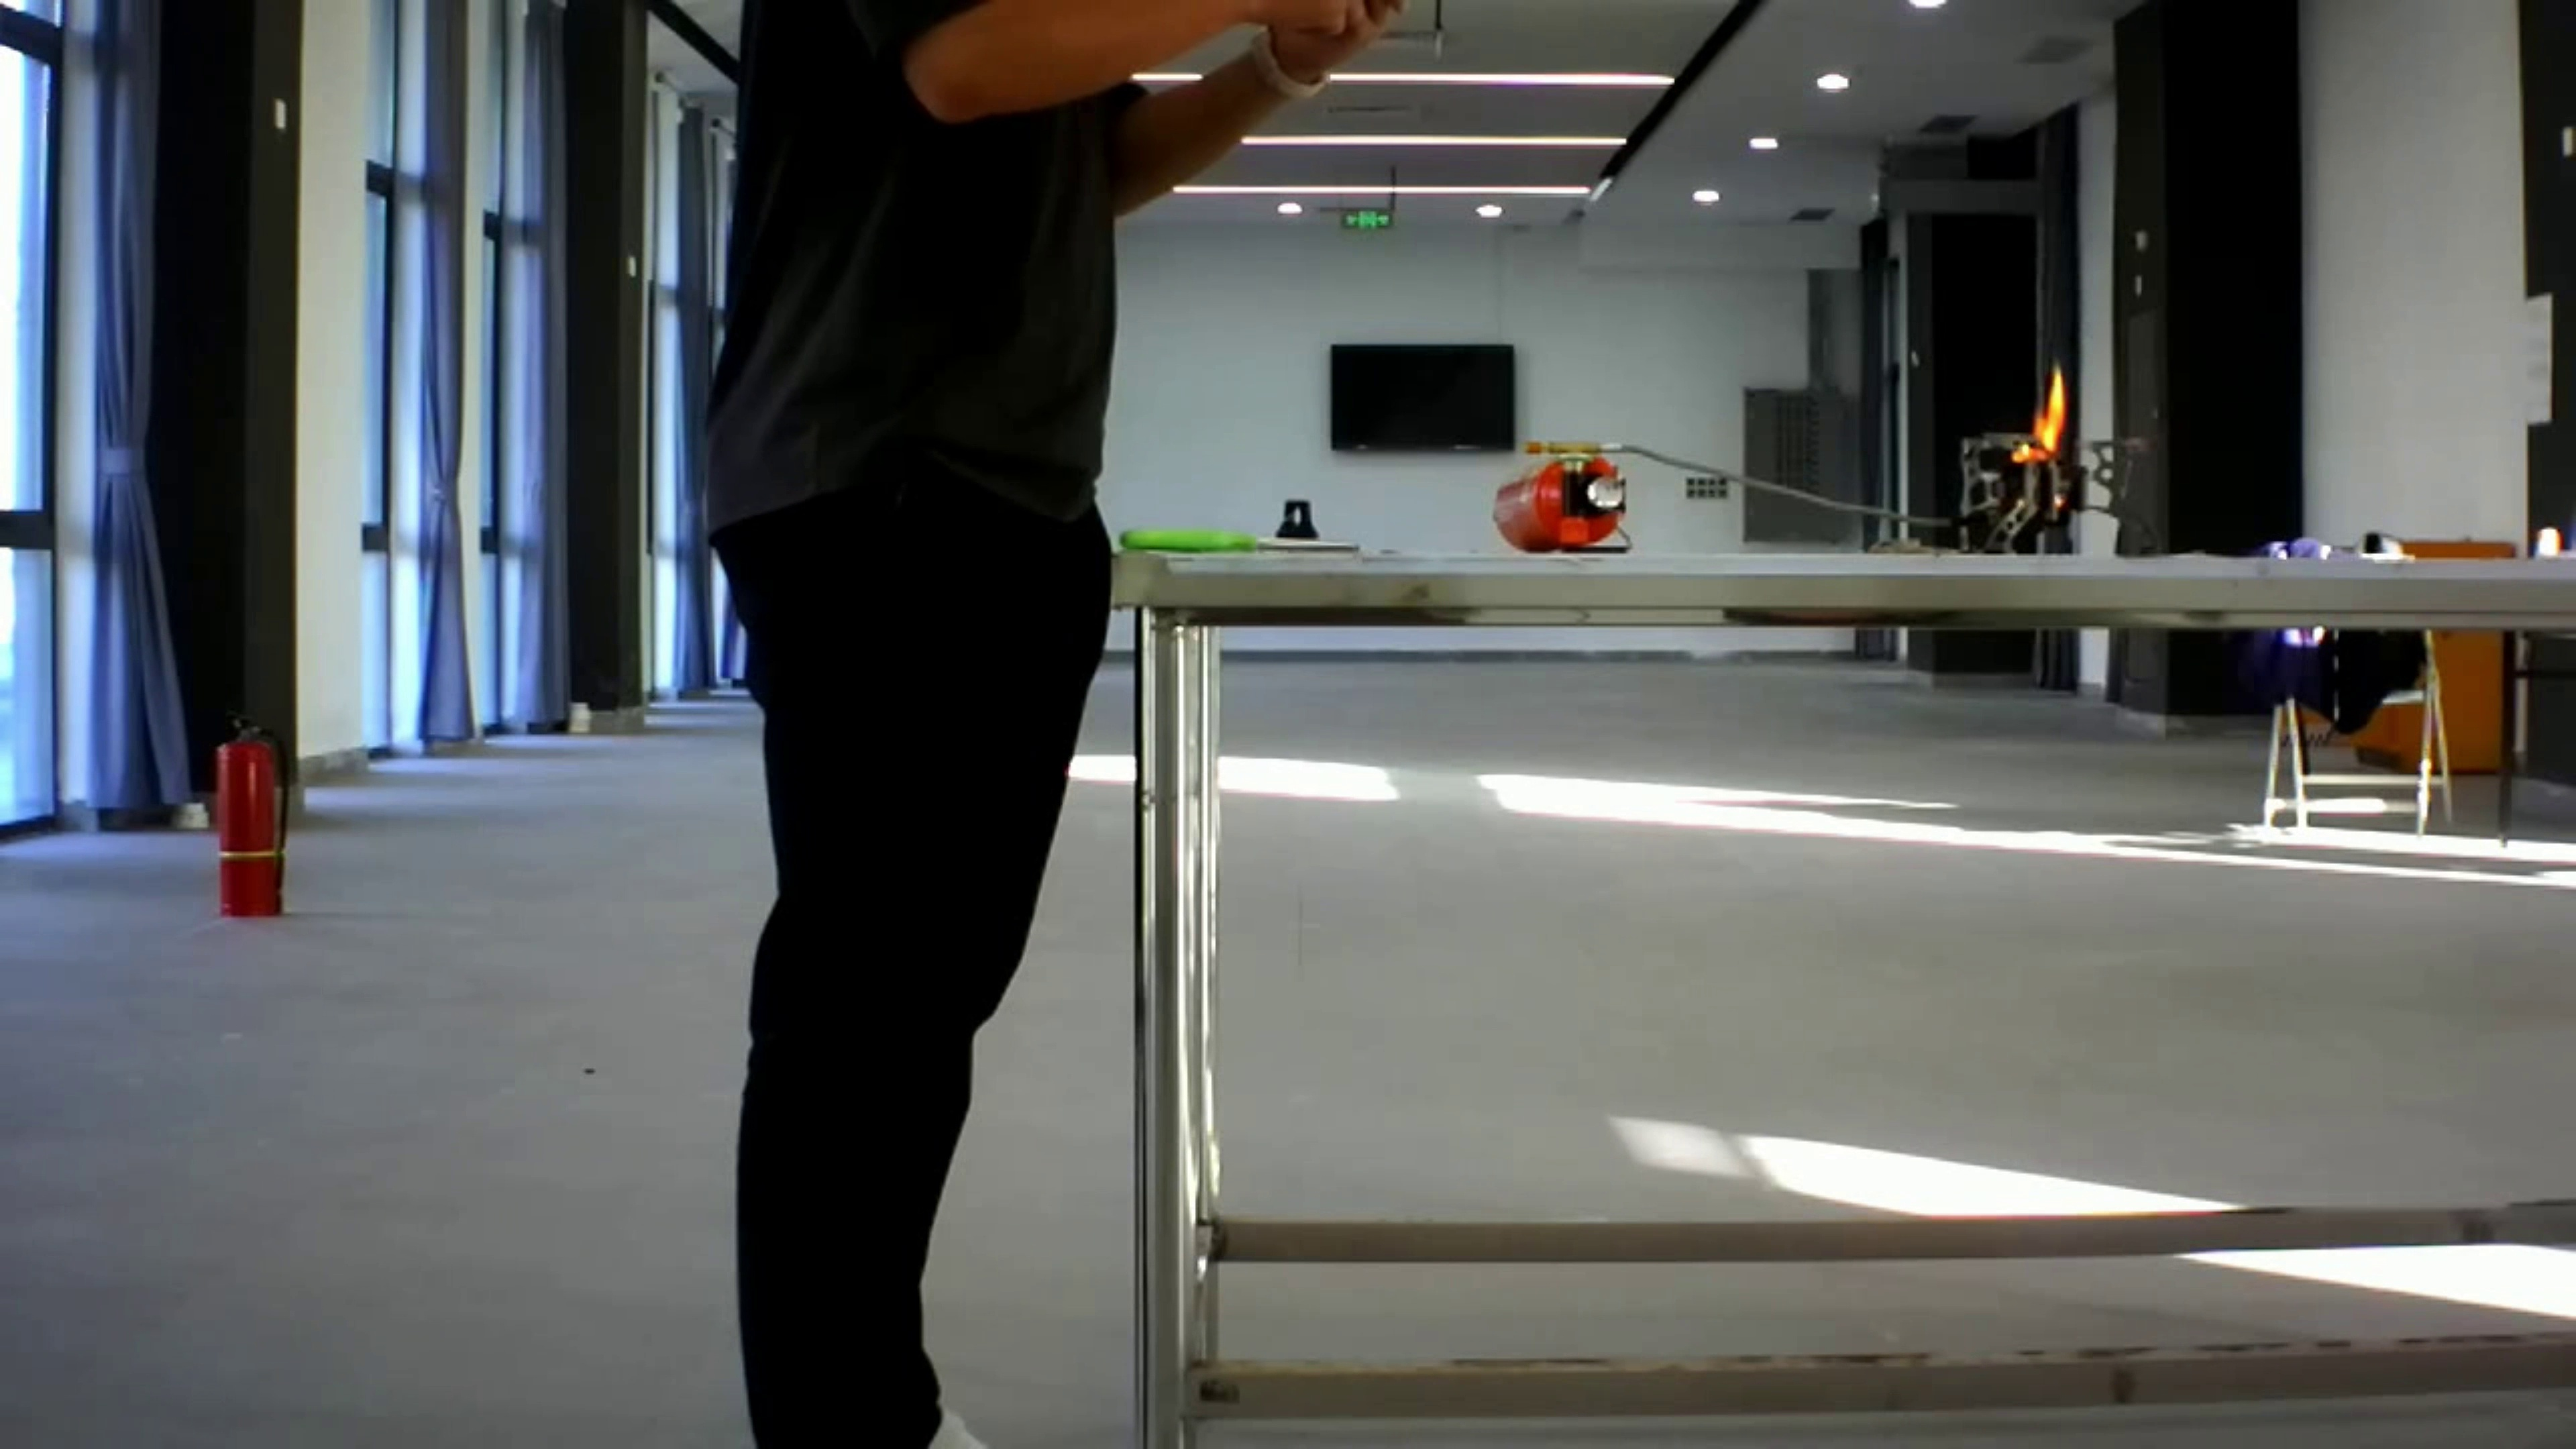Fire: (2006, 350, 2075, 472)
